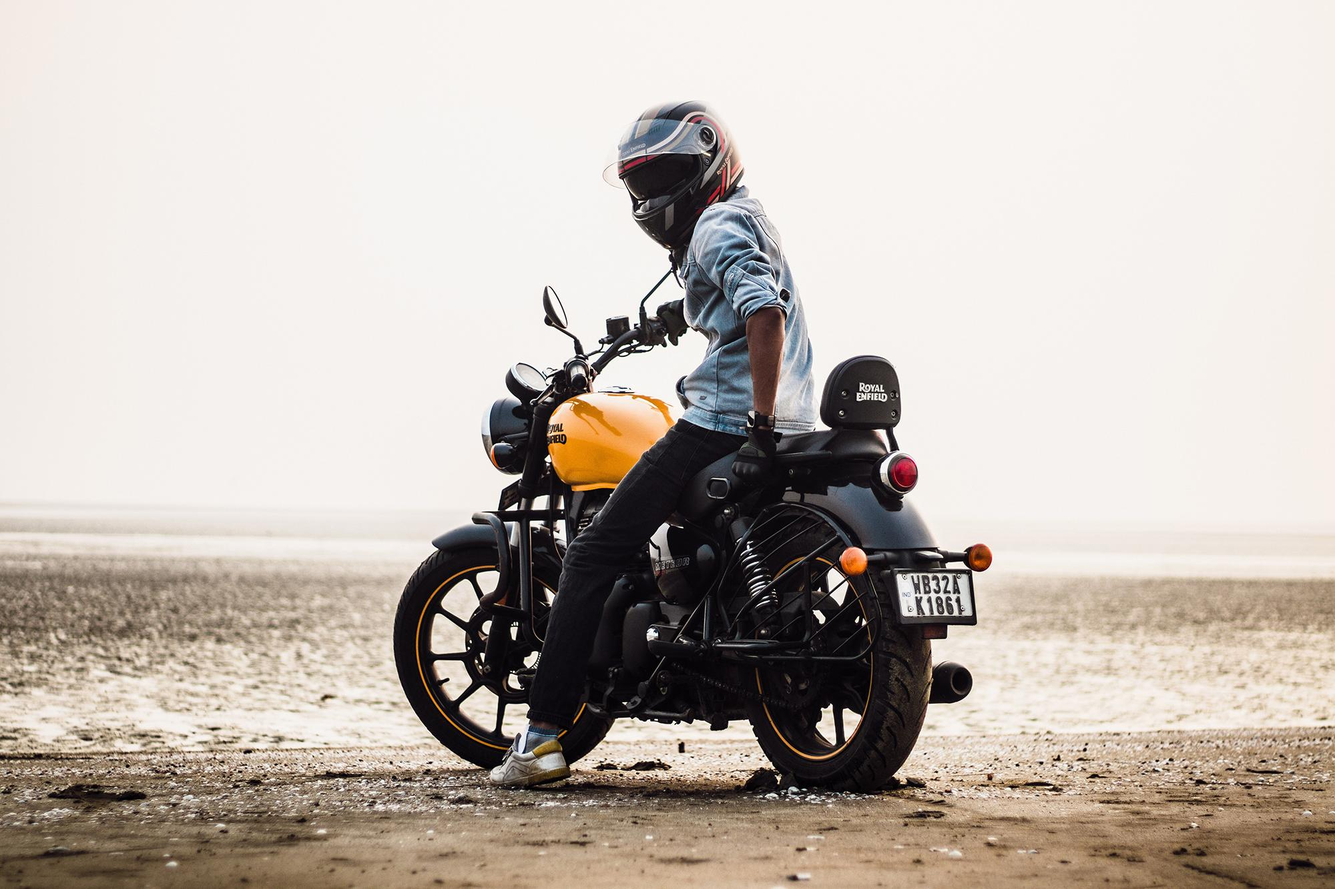helmet: (601, 97, 746, 252)
